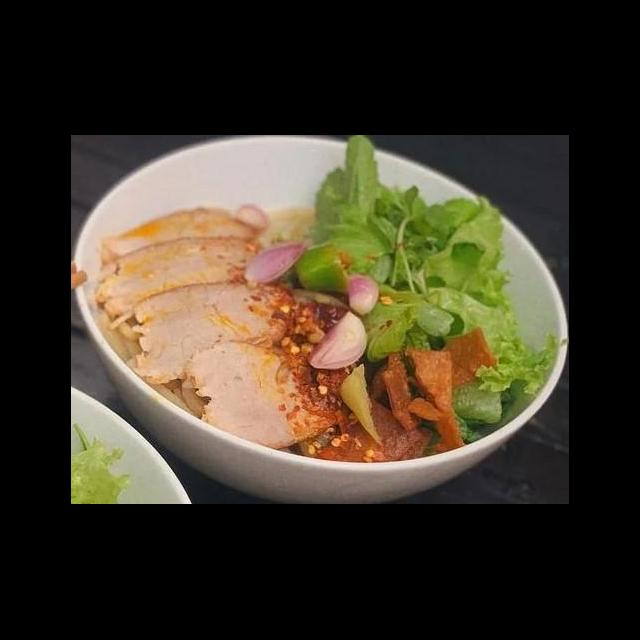banh da: (367, 324, 500, 436), (308, 394, 438, 472), (402, 344, 470, 454)
thit heo: (173, 336, 361, 454), (130, 278, 300, 391), (93, 232, 270, 330), (97, 200, 264, 272)
